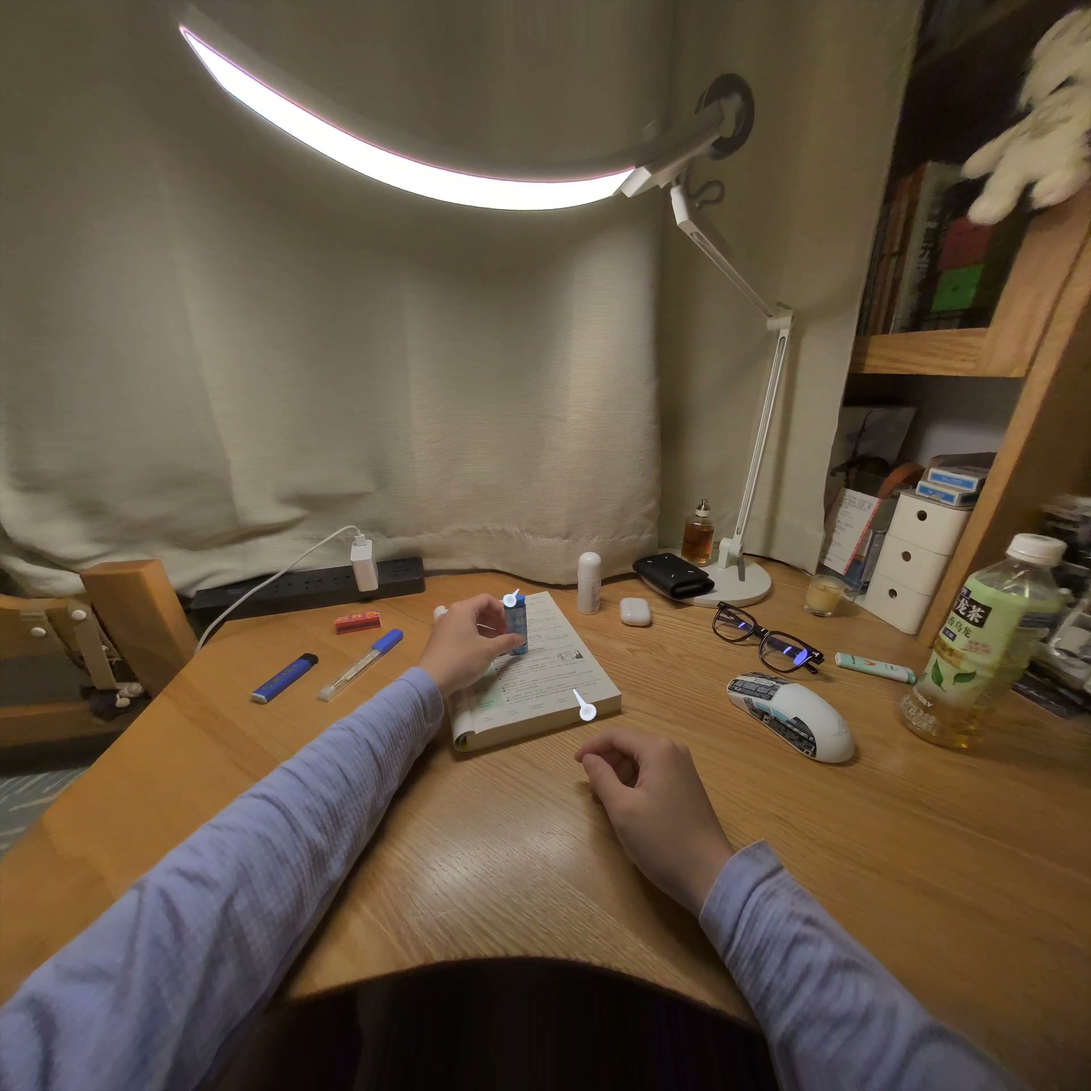lighter: (502, 591, 527, 655)
